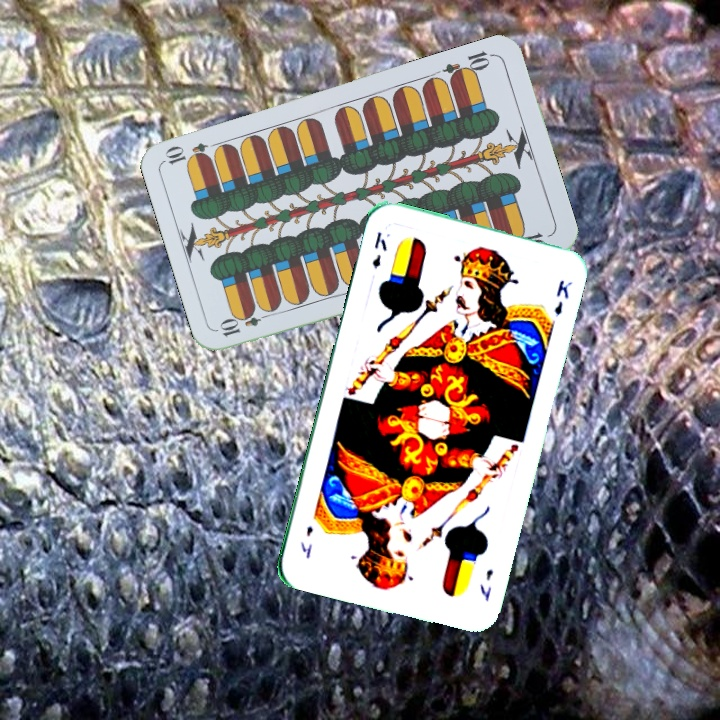E10: (439, 47, 497, 84), (216, 307, 274, 340)
EK: (368, 228, 390, 271), (476, 564, 496, 604)
